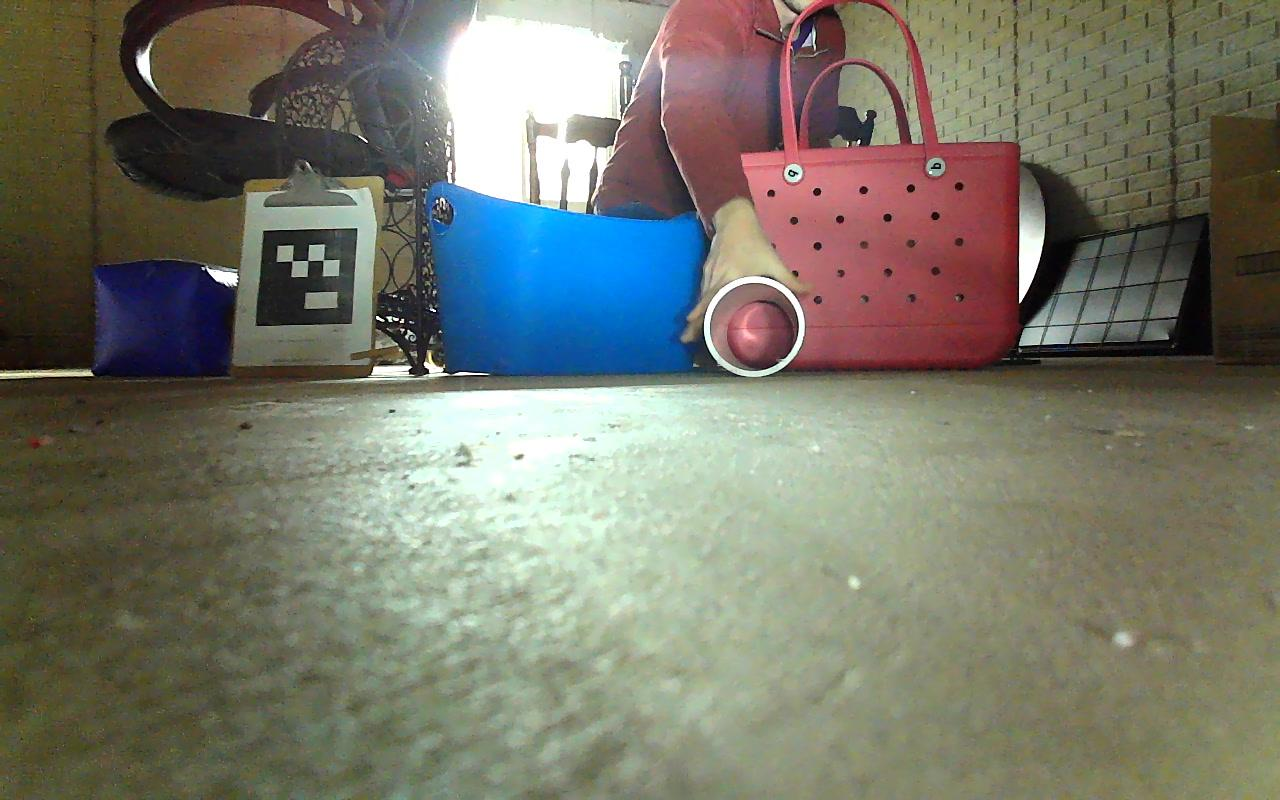coral: (703, 273, 806, 376)
